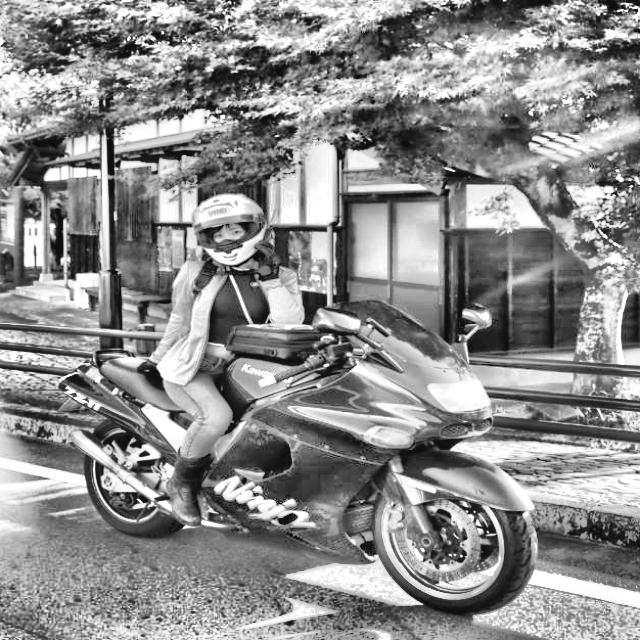Helmet: (188, 192, 272, 270)
